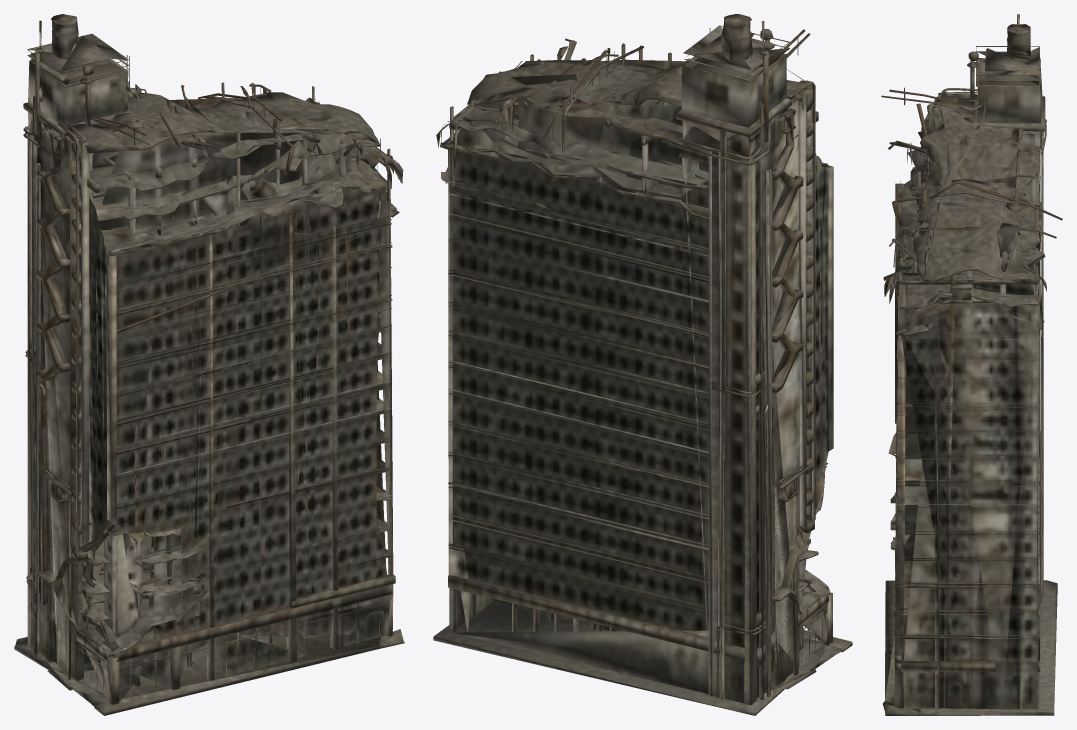
File: reactor-city-highrise-ruin.glb
3 renders of one model, left to right at view 1: azimuth 30°, elevation 25°; view 2: azimuth 150°, elevation 25°; view 3: azimuth 270°, elevation 25°, orthographic. The views are drawn at different scales.
Parts seen in each view (by area): view 1: reactor-city-highrise-ruin; view 2: reactor-city-highrise-ruin; view 3: reactor-city-highrise-ruin.
Part boxes in pixels (x1,y1,x2,y2): reactor-city-highrise-ruin: (14, 14, 404, 715); reactor-city-highrise-ruin: (433, 14, 852, 715); reactor-city-highrise-ruin: (881, 14, 1062, 715).
Size of the model in its own units: 37.81 by 75 by 21.46.
Materials: 1 (1 with a texture image).
